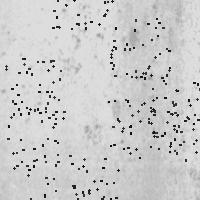pitted_surface: (1, 1, 166, 118), (110, 18, 169, 77), (108, 97, 164, 157), (7, 107, 63, 167), (5, 58, 60, 117), (148, 80, 200, 138), (69, 155, 125, 200), (17, 161, 77, 200), (166, 104, 200, 159), (52, 0, 111, 28)
